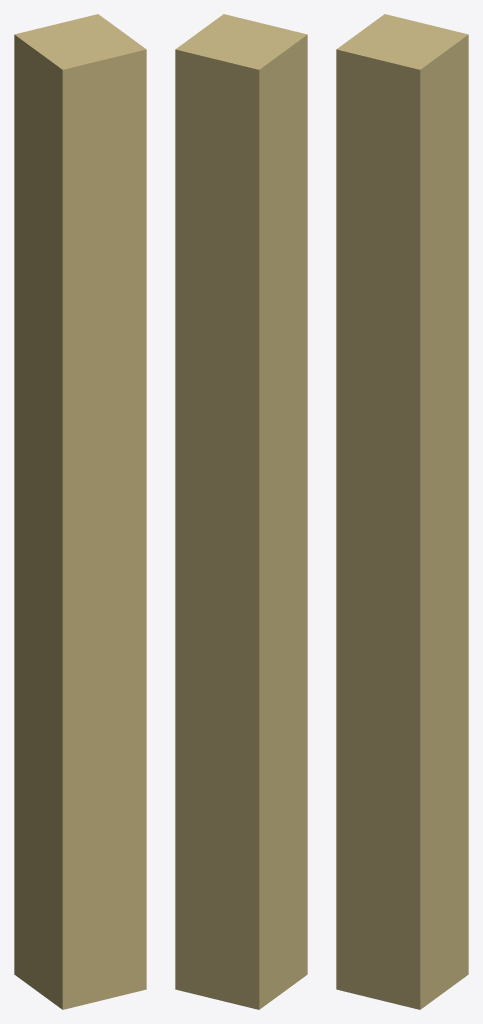
Rendered from Pillar_6B.fbx.
3 renders of one model, left to right at view 1: azimuth 30°, elevation 25°; view 2: azimuth 150°, elevation 25°; view 3: azimuth 330°, elevation 25°, orthographic.
Parts seen in each view (by area): view 1: pCube99; view 2: pCube99; view 3: pCube99.
Part boxes in pixels (<box>): pCube99: <box>14,14,146,1009</box>; pCube99: <box>175,14,307,1009</box>; pCube99: <box>336,14,468,1009</box>.
Bounding box in the file's own units: 0.75 × 8.03 × 0.75.
1 material, 1 textured.
